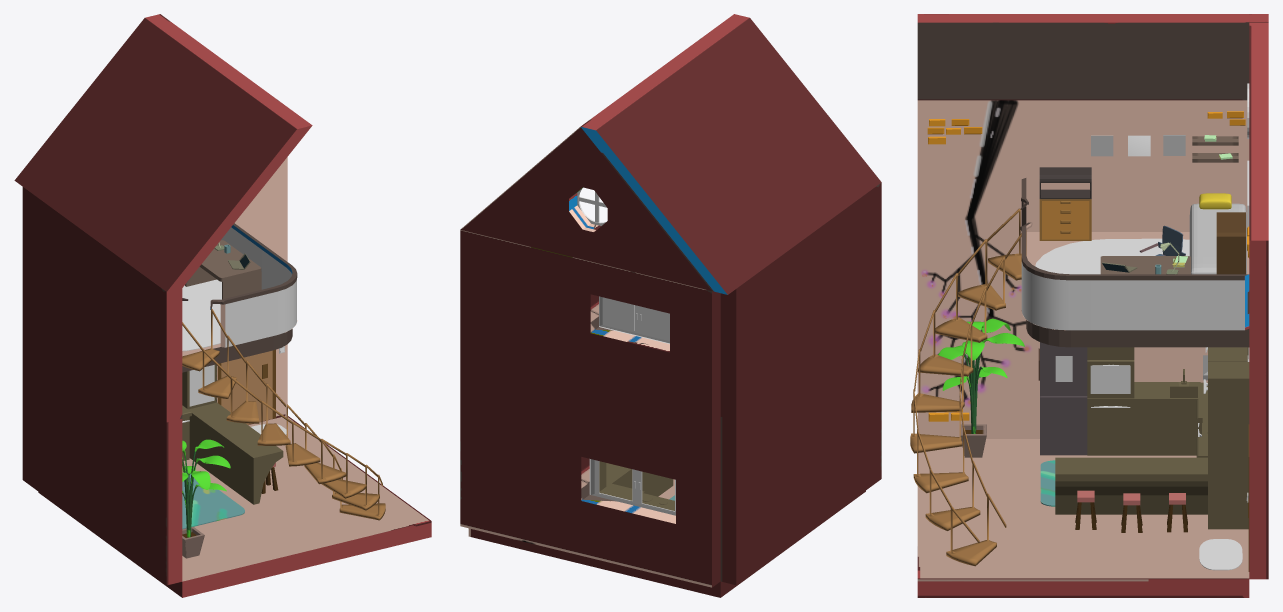
The model's file is boyroom.fbx.
3 views of the same model, side by side, from view 1: azimuth 30°, elevation 25°; view 2: azimuth 150°, elevation 25°; view 3: azimuth 270°, elevation 25° (orthographic). The views are drawn at different scales.
Parts seen in each view (by area): view 1: House, Stair, KitchenBar, curvyglass, carpet.001, table, door, carpet, Leafs, KitchenBar.001, FlowerPot; view 2: House, WindowGlass, KitchenBar, WindowFrame.001, WindowFrame; view 3: House, KitchenBar, curvyglass, Stair, glass, KitchenSink, carpet.001, UpperCabnet.003, Leafs, Shelf, Bed, BookShelf (+14 smaller).
Boxes of the visible parts, x1,y1,x2,y2 form: House: [14, 14, 431, 597]; Stair: [182, 308, 385, 520]; KitchenBar: [182, 364, 283, 504]; curvyglass: [221, 227, 296, 347]; carpet.001: [182, 279, 221, 351]; table: [185, 240, 261, 299]; door: [221, 350, 272, 424]; carpet: [182, 466, 244, 529]; Leafs: [182, 439, 230, 537]; KitchenBar.001: [189, 365, 214, 406]; FlowerPot: [182, 526, 204, 558]; House: [460, 14, 881, 597]; WindowGlass: [606, 298, 669, 339]; KitchenBar: [599, 461, 673, 496]; WindowFrame.001: [589, 459, 675, 515]; WindowFrame: [599, 296, 669, 343]; House: [917, 14, 1268, 597]; KitchenBar: [1055, 362, 1249, 529]; curvyglass: [1021, 262, 1244, 330]; Stair: [910, 208, 1026, 566]; glass: [1040, 342, 1087, 455]; KitchenSink: [1134, 369, 1200, 455]; carpet.001: [1035, 238, 1189, 274]; UpperCabnet.003: [1087, 398, 1134, 455]; Leafs: [937, 318, 1024, 433]; Shelf: [1039, 199, 1091, 240]; Bed: [1189, 203, 1246, 274]; BookShelf: [1216, 212, 1245, 274].
Size of what is drawn, in the model's own units: 850 by 1472 by 864.
